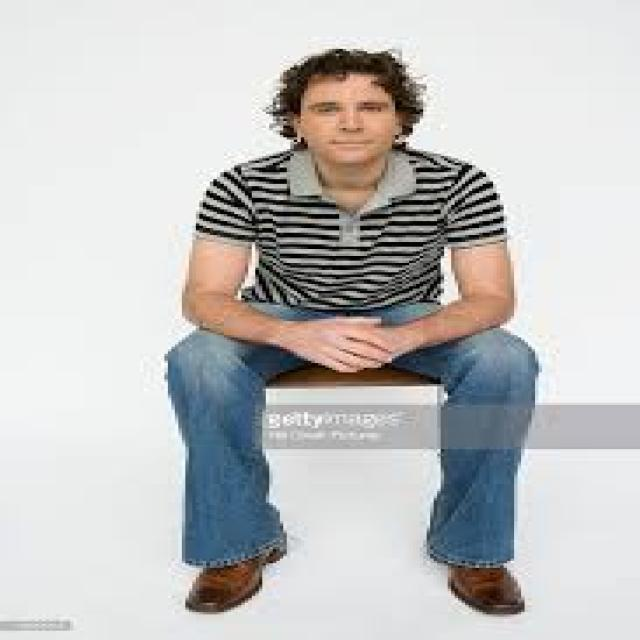nonfall: (166, 40, 549, 615)
